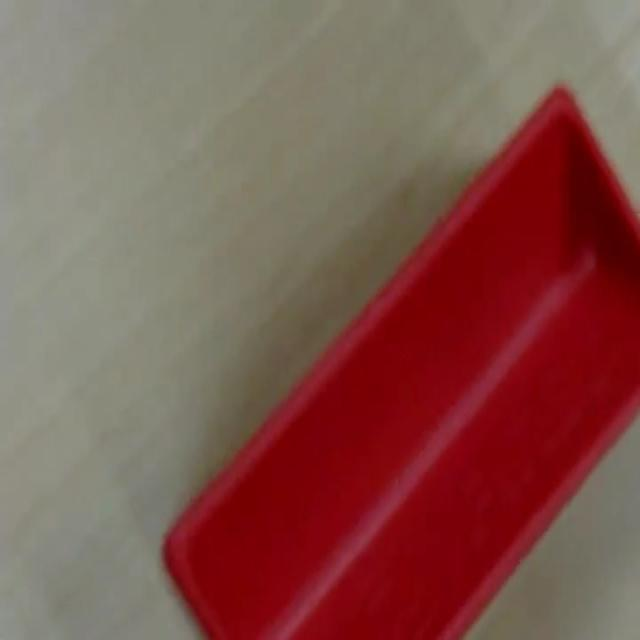red_block: (160, 81, 638, 636)
